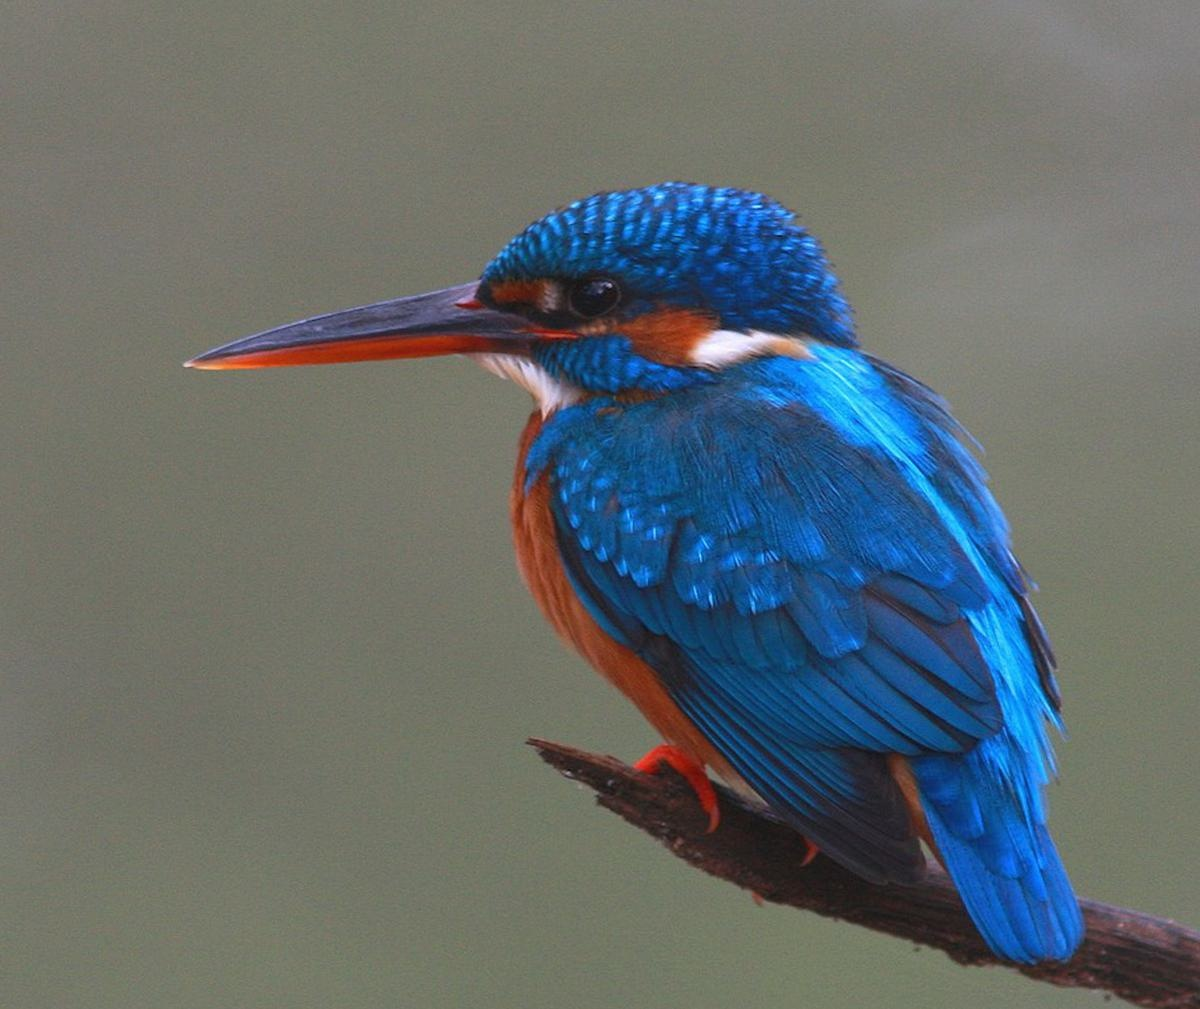kingfisher: (164, 150, 1101, 907)
